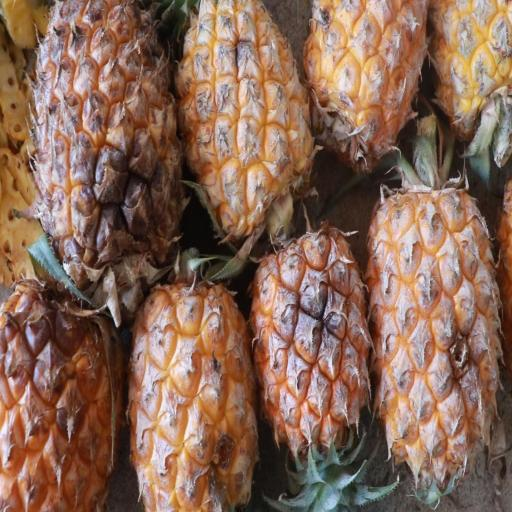Pineapple - v8 v1: (29, 0, 182, 295), (366, 176, 501, 494), (171, 0, 315, 246), (126, 259, 259, 511), (0, 263, 125, 512), (247, 223, 374, 462), (298, 0, 427, 172)
